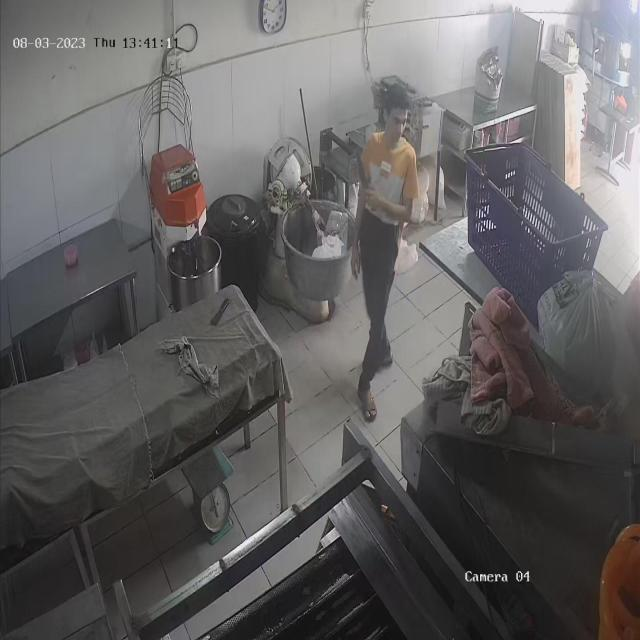Knife: (346, 150, 376, 201)
